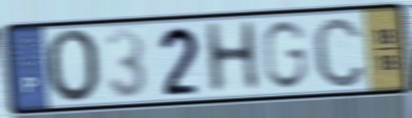2: (154, 21, 206, 101)
3: (105, 24, 148, 103)
C: (310, 13, 368, 91)
G: (259, 18, 310, 92)
H: (201, 18, 263, 98)
O: (42, 27, 101, 106)
